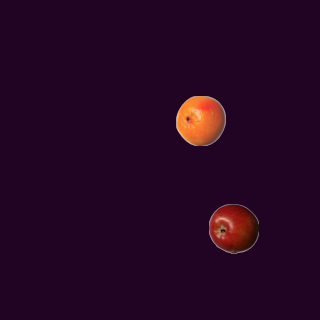Apple Braeburn: (208, 203, 258, 253)
Grapefruit Pink: (175, 95, 225, 145)
